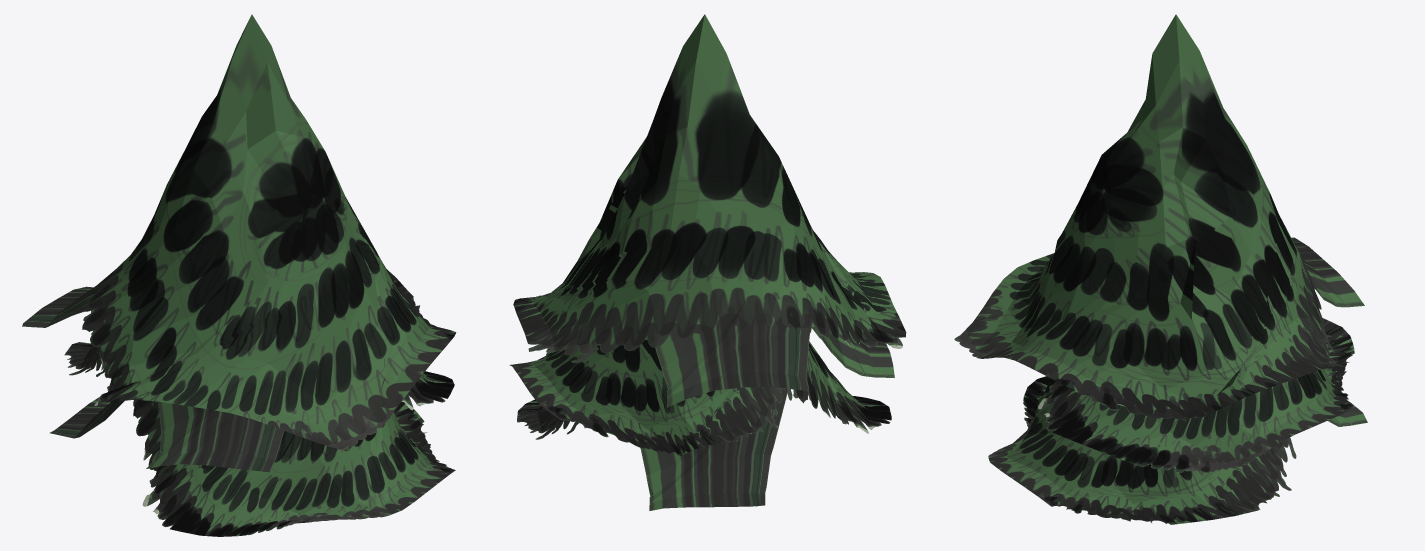
The model's file is tree.fbx.
The picture shows the model from 3 angles, left to right: view 1: azimuth 30°, elevation 25°; view 2: azimuth 150°, elevation 25°; view 3: azimuth 270°, elevation 25°; orthographic projection. The views are drawn at different scales.
Parts seen in each view (by area): view 1: Plane.002, Plane, Plane.001; view 2: Plane.002, Plane.001, Plane; view 3: Plane.002, Plane, Plane.001.
Part boxes in pixels (x1,y1,x2,y2): Plane.002: [22, 14, 456, 450]; Plane: [49, 397, 455, 536]; Plane.001: [64, 342, 454, 472]; Plane.002: [513, 14, 906, 407]; Plane.001: [509, 327, 894, 456]; Plane: [517, 341, 891, 510]; Plane.002: [954, 14, 1364, 421]; Plane: [988, 376, 1367, 524]; Plane.001: [1038, 318, 1354, 472].
Bounding box in the file's own units: 237 × 268 × 244.
